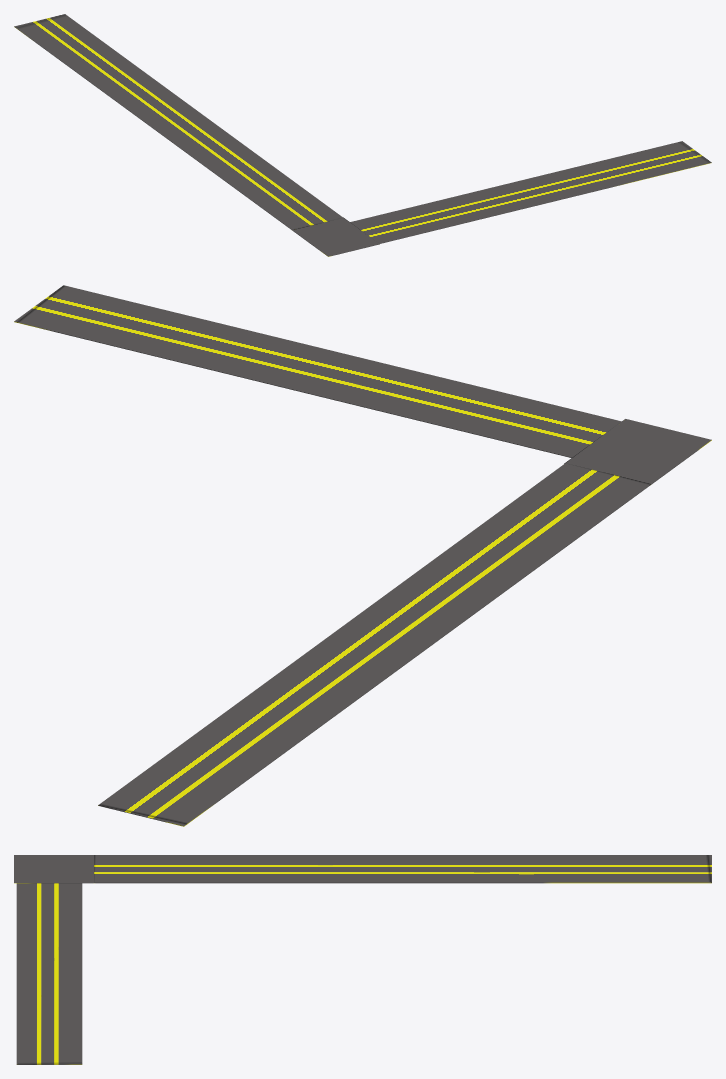
File: Camino2.obj
3 renders of one model, top to bottom at view 1: azimuth 30°, elevation 25°; view 2: azimuth 150°, elevation 25°; view 3: azimuth 270°, elevation 25°, orthographic. The views are drawn at different scales.
Parts seen in each view (by area): view 1: pasted__Calle3; view 2: pasted__Calle3; view 3: pasted__Calle3.
Part boxes in pixels (x1=…): pasted__Calle3: x1=14, y1=14, x2=711, y2=256; pasted__Calle3: x1=14, y1=285, x2=711, y2=826; pasted__Calle3: x1=14, y1=855, x2=711, y2=1064.
Size of the model in its own units: 141 by 0.4213 by 199.
Materials: 6 (6 with a texture image).
